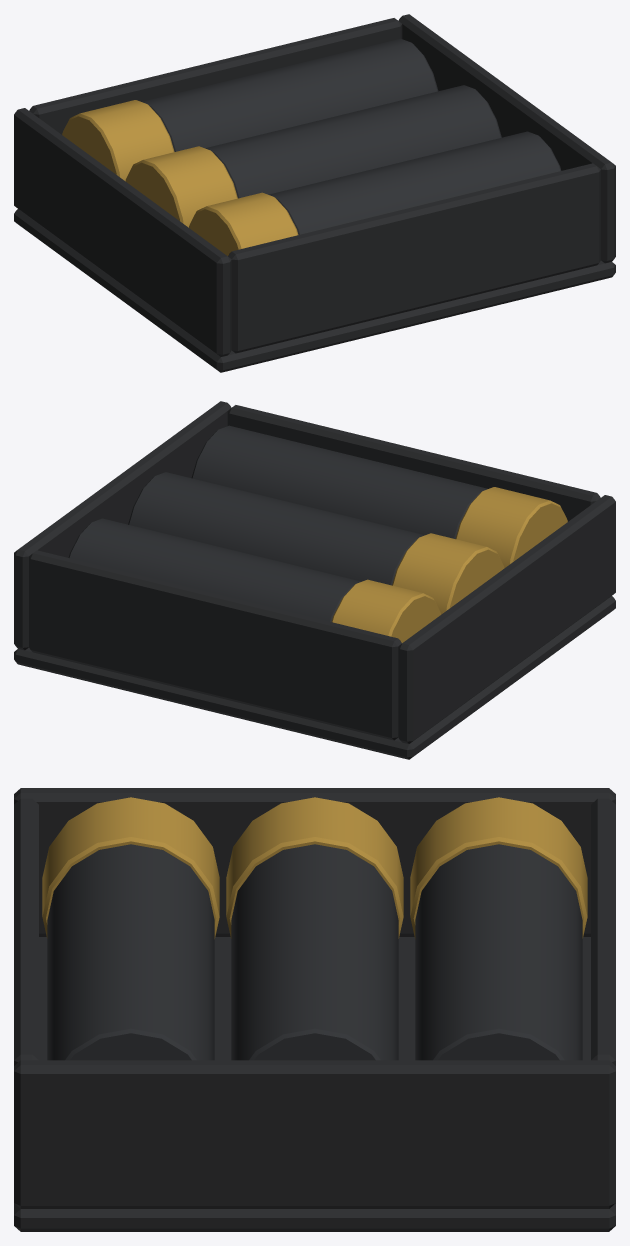
File: mod_shotgun_flechette.glb
3 views of the same model, one above another, from view 1: azimuth 30°, elevation 25°; view 2: azimuth 150°, elevation 25°; view 3: azimuth 270°, elevation 25° (orthographic). The views are drawn at different scales.
Parts seen in each view (by area): view 1: AmmoCaddy, AmmoShell2, AmmoShell1, AmmoShell0; view 2: AmmoCaddy, AmmoShell0, AmmoShell1, AmmoShell2; view 3: AmmoCaddy, AmmoShell0, AmmoShell2, AmmoShell1.
Boxes of the visible parts, x1,y1,x2,y2 form: AmmoCaddy: (14, 14, 615, 372); AmmoShell2: (62, 38, 438, 181); AmmoShell1: (125, 85, 501, 227); AmmoShell0: (189, 131, 561, 255); AmmoCaddy: (14, 401, 615, 759); AmmoShell0: (191, 425, 567, 568); AmmoShell1: (128, 472, 504, 614); AmmoShell2: (68, 518, 440, 642); AmmoCaddy: (14, 788, 615, 1231); AmmoShell0: (42, 797, 219, 1060); AmmoShell2: (410, 797, 587, 1060); AmmoShell1: (226, 797, 403, 1060).
Bounding box in the file's own units: 0.08 × 0.0241 × 0.072.
